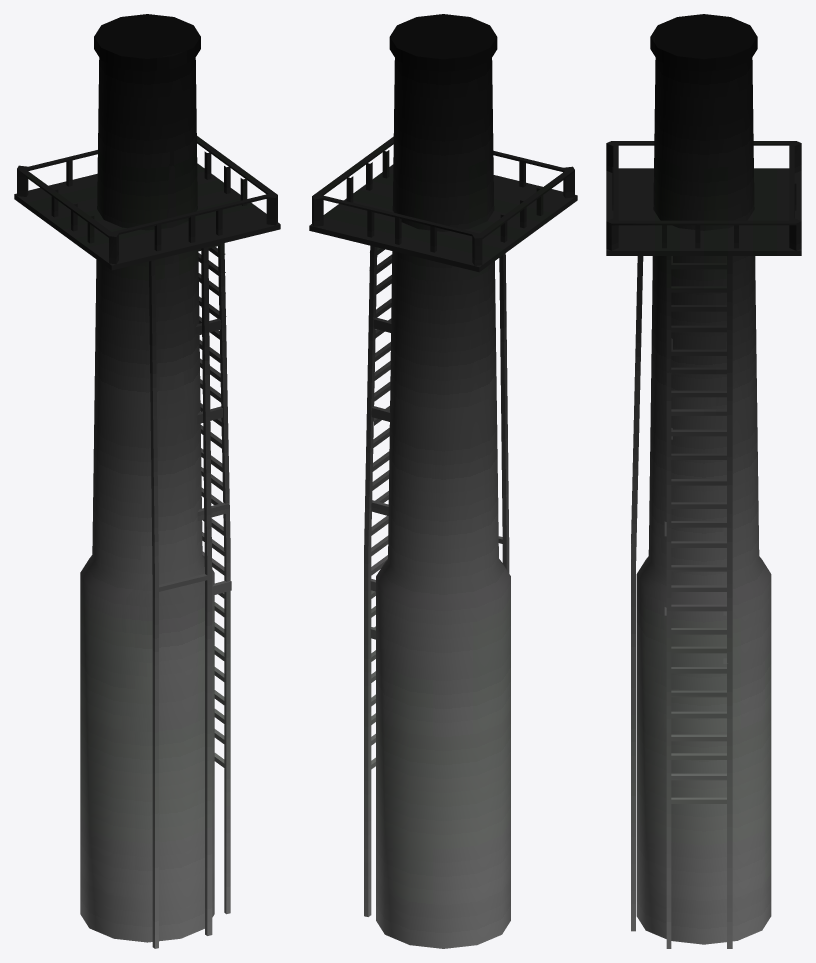
3 renders of one model, left to right at view 1: azimuth 30°, elevation 25°; view 2: azimuth 150°, elevation 25°; view 3: azimuth 270°, elevation 25°, orthographic.
Parts seen in each view (by area): view 1: body0_model0_lod0_mesh0; view 2: body0_model0_lod0_mesh0; view 3: body0_model0_lod0_mesh0.
Boxes of the visible parts, <box> form: body0_model0_lod0_mesh0: <box>14,14,280,948</box>; body0_model0_lod0_mesh0: <box>309,14,577,948</box>; body0_model0_lod0_mesh0: <box>606,14,801,948</box>.
Size of the model in its own units: 19.59 by 97.34 by 19.59.
1 material, 1 textured.
